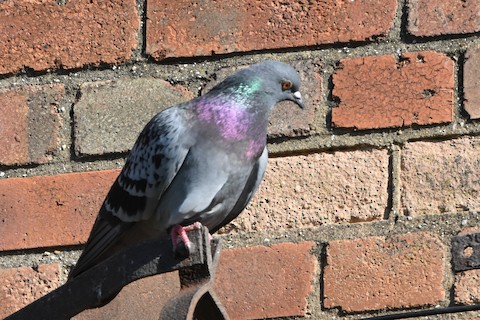pigeon: (61, 56, 312, 288)
